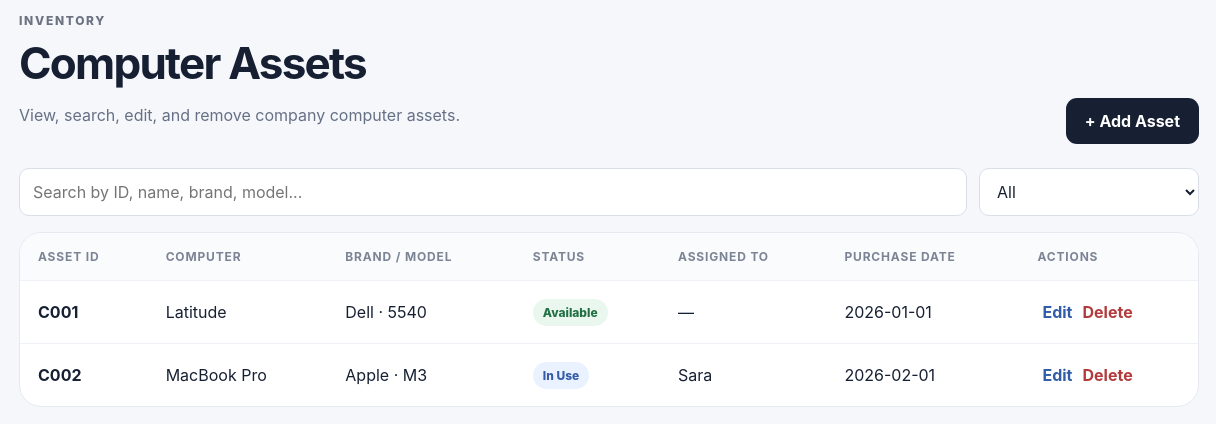
Test: Assets list › filters assets using search
Type "Apple" into the field named "search assets" at (493, 192), box [19,168,967,216]
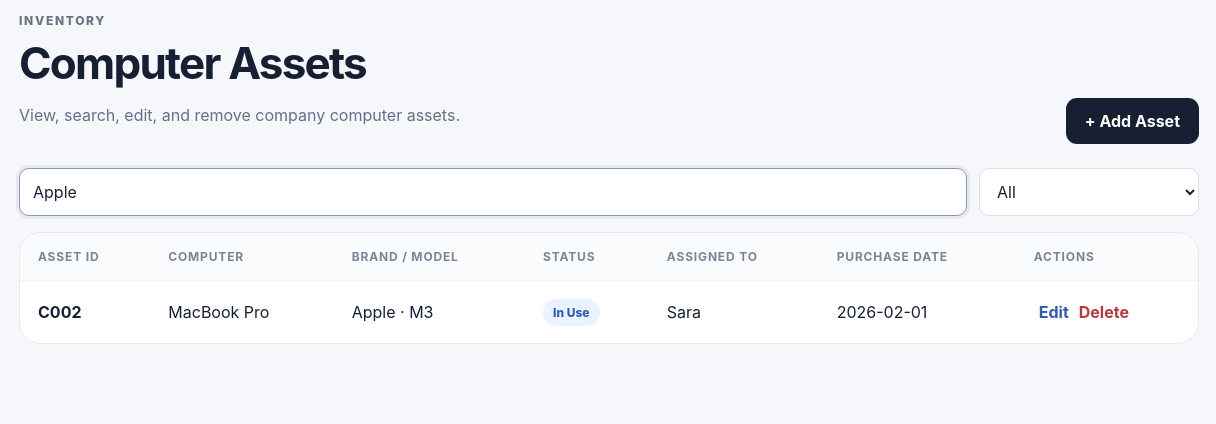
Expected: the text "C002" is shown, [38,302,82,322]
Now the text "C001" is gone
